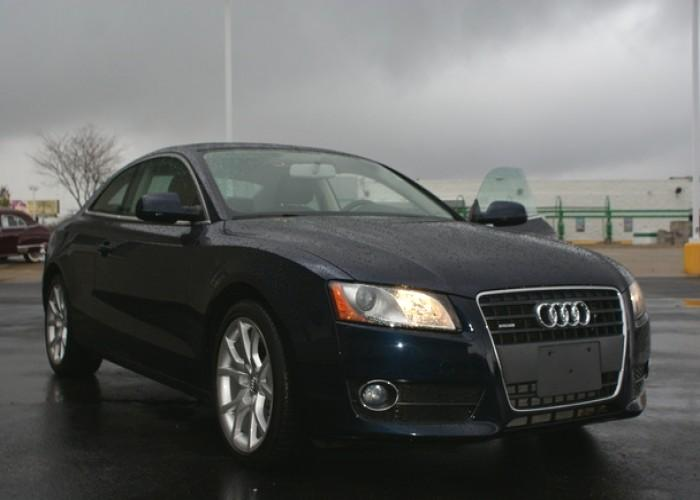Audi: (527, 292, 601, 337)
